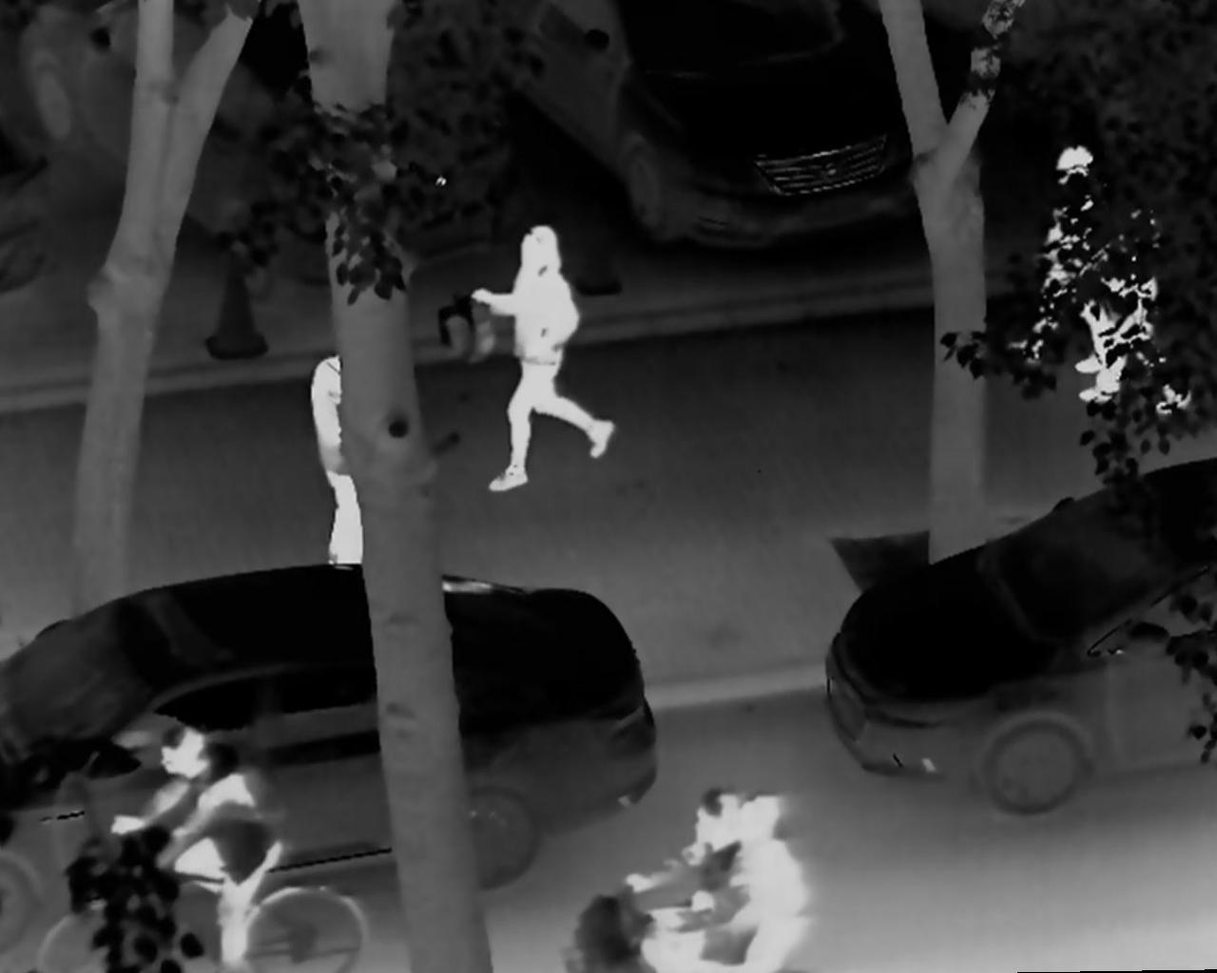person: (109, 714, 280, 973), (470, 215, 621, 495), (1079, 172, 1197, 419), (1008, 133, 1120, 379), (623, 784, 756, 973), (303, 334, 379, 580), (725, 787, 813, 973)
